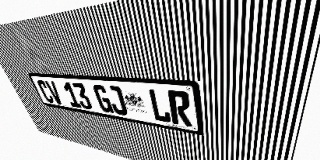1: (61, 82, 82, 108)
3: (72, 83, 93, 110)
C: (36, 80, 55, 104)
G: (92, 84, 114, 114)
J: (106, 85, 128, 116)
L: (147, 89, 172, 123)
R: (167, 90, 192, 127)
V: (44, 81, 64, 105)
